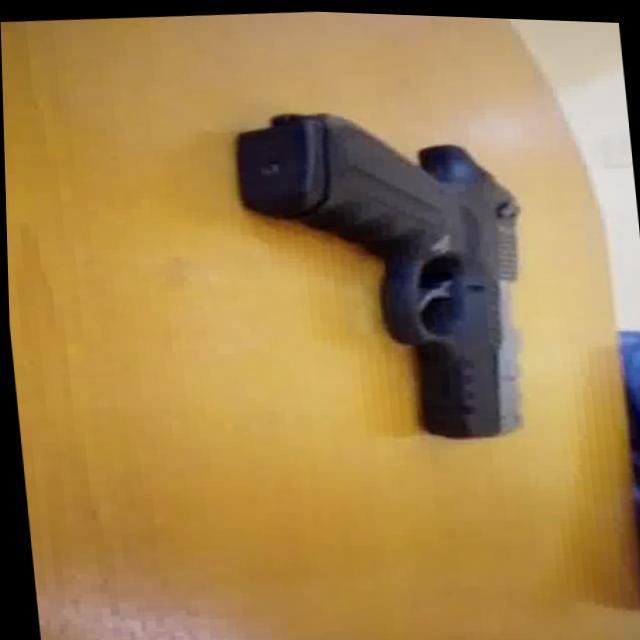weapon: (228, 92, 541, 451)
